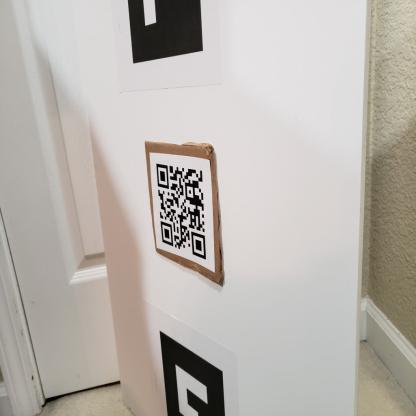qr: (153, 160, 208, 261)
